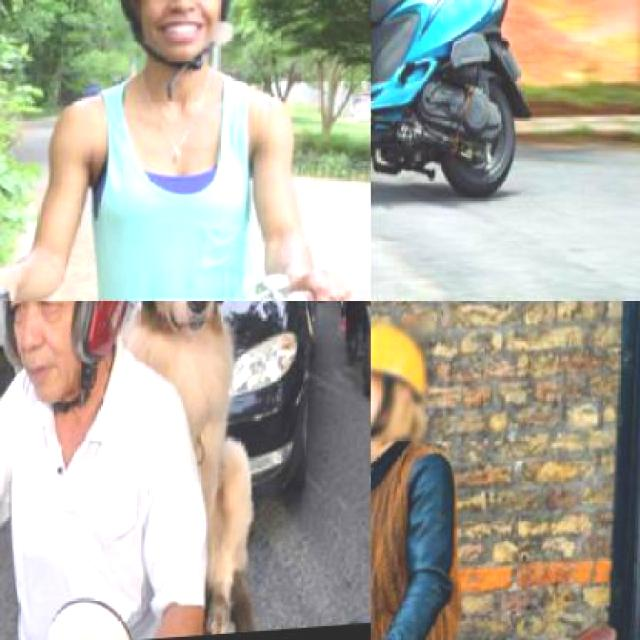With Helmet: (0, 300, 143, 423), (107, 0, 249, 78), (371, 315, 434, 454)
